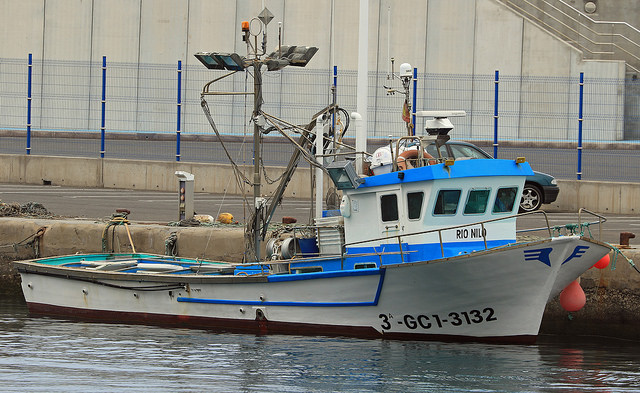fishing_boat: (16, 73, 613, 345)
